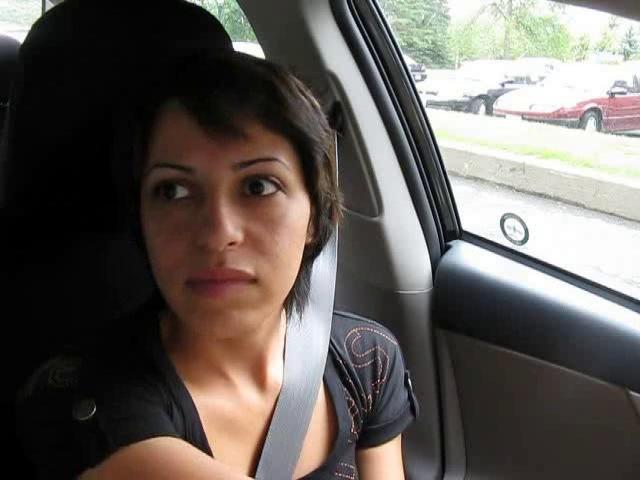eye_open: (233, 166, 287, 210), (146, 172, 198, 209)
face: (140, 125, 312, 343)
